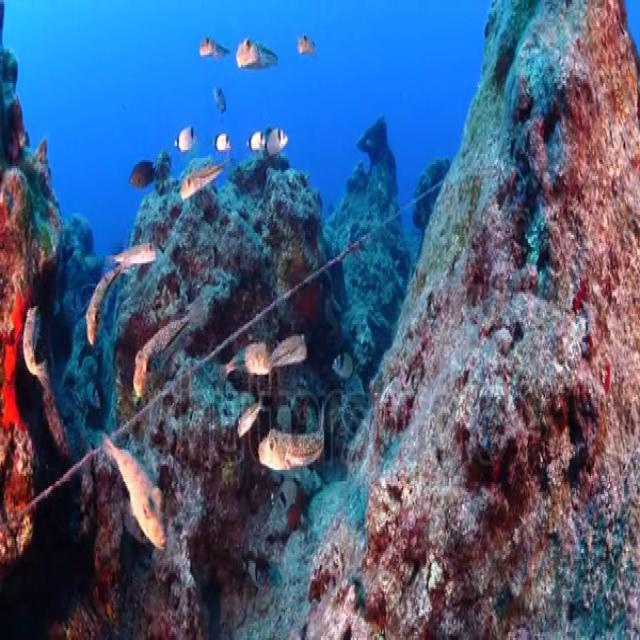Balon Baligi: (130, 302, 207, 397), (107, 436, 169, 551), (259, 424, 329, 478), (82, 262, 124, 348), (21, 302, 50, 392), (236, 36, 274, 75), (185, 27, 227, 62), (178, 164, 221, 198), (232, 396, 264, 438), (290, 27, 324, 65)
